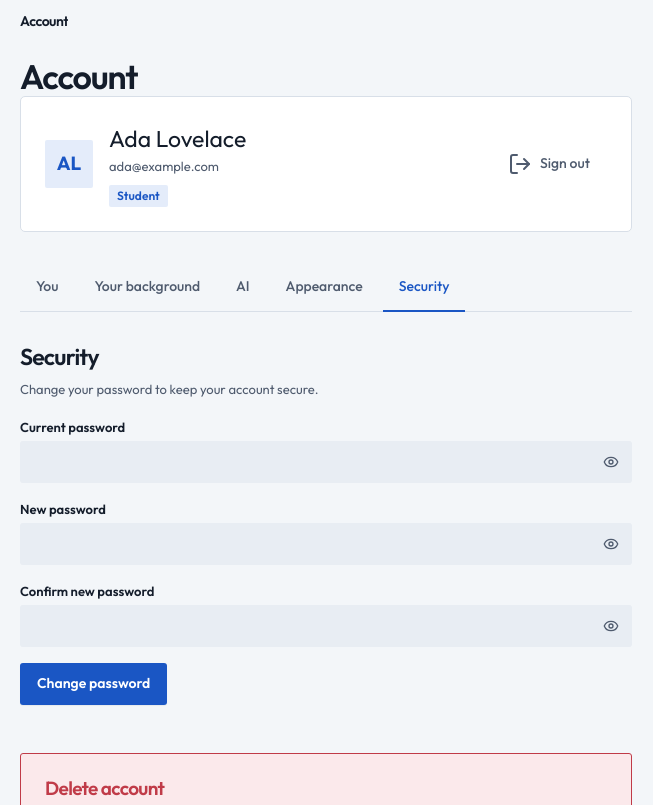
it: AccountPage › reports a successful password change from a null-data response
The width and height of the screenshot is (653, 805).
Type "Current-password-123!" into the password field labelled "Current password" at (326, 462), box [20,441,632,483]
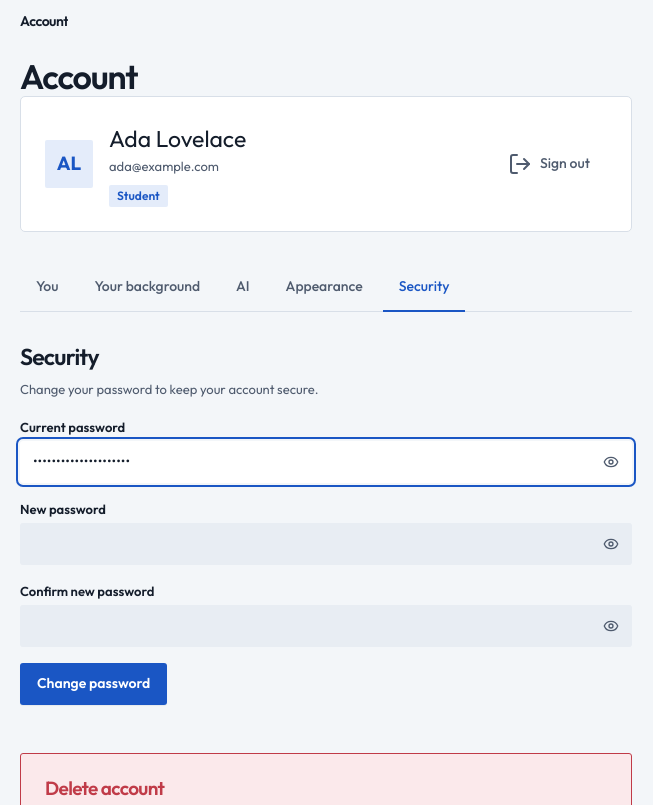
Type "New-password-456!" into the password field labelled "New password" at (326, 544), box [20,523,632,565]
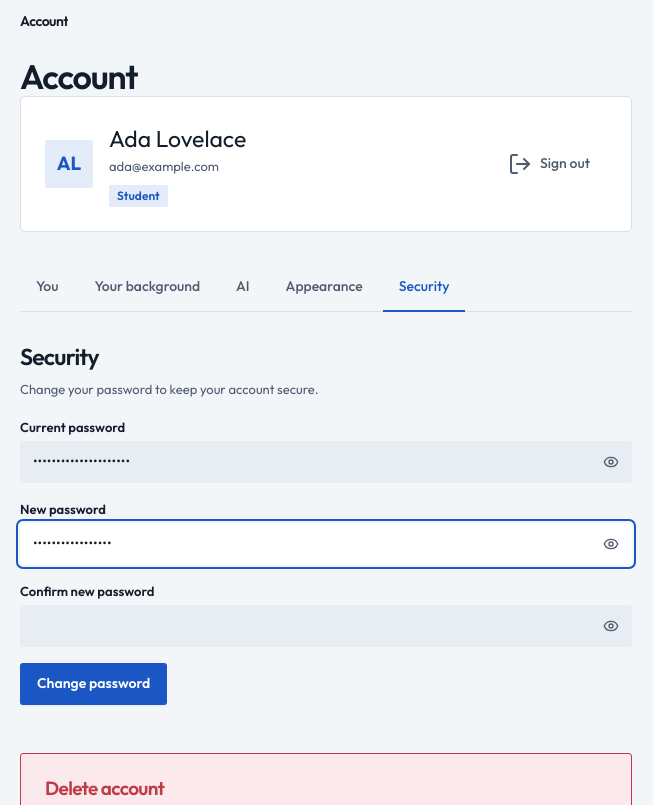
Type "New-password-456!" into the password field labelled "Confirm new password" at (326, 626), box [20,605,632,647]
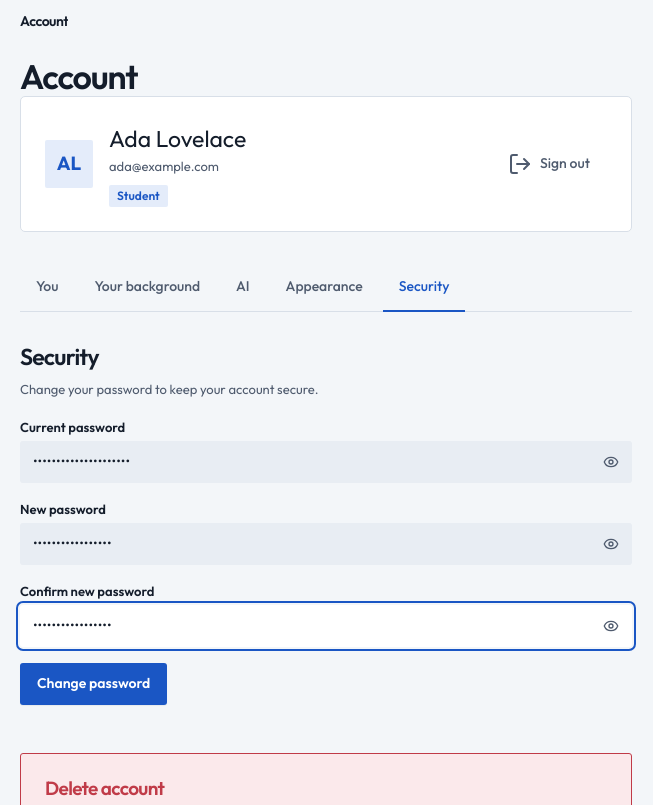
Click the button "Change password" at (94, 684), box [20,663,167,705]
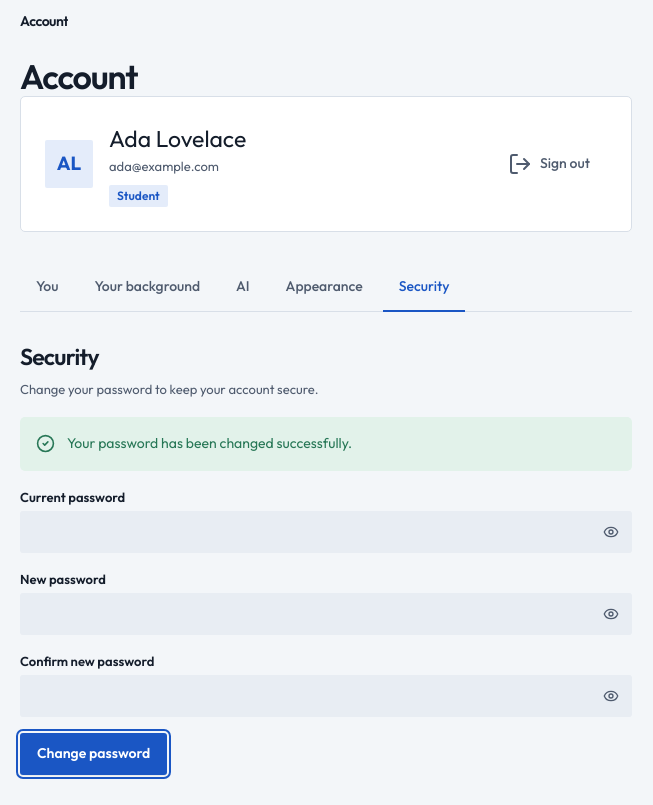
Expected: the message reads "Your password has been changed successfully.", [67,434,352,452]
Expected: the password field labelled "Current password" is empty, [20,511,632,553]
Expected: the password field labelled "New password" is empty, [20,593,632,635]
